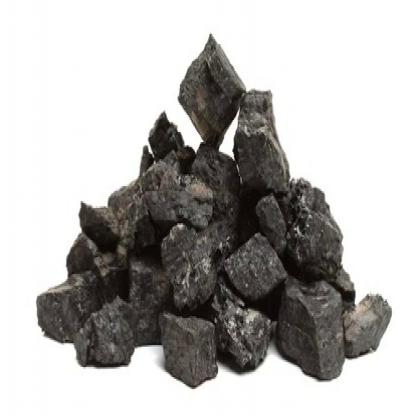Sedimentary_coal: (177, 0, 249, 142), (268, 281, 346, 384), (220, 228, 291, 298), (75, 296, 135, 372), (151, 316, 217, 376), (32, 282, 97, 340), (65, 196, 121, 256)
